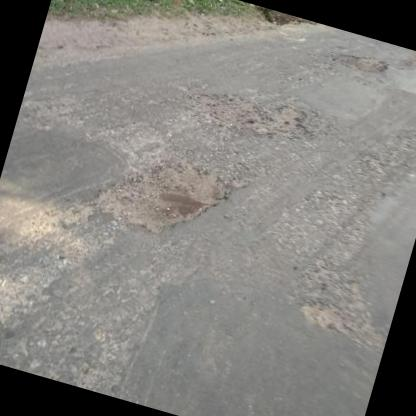pothole: (85, 136, 239, 254), (180, 76, 318, 151), (327, 43, 391, 81), (402, 55, 416, 82)
